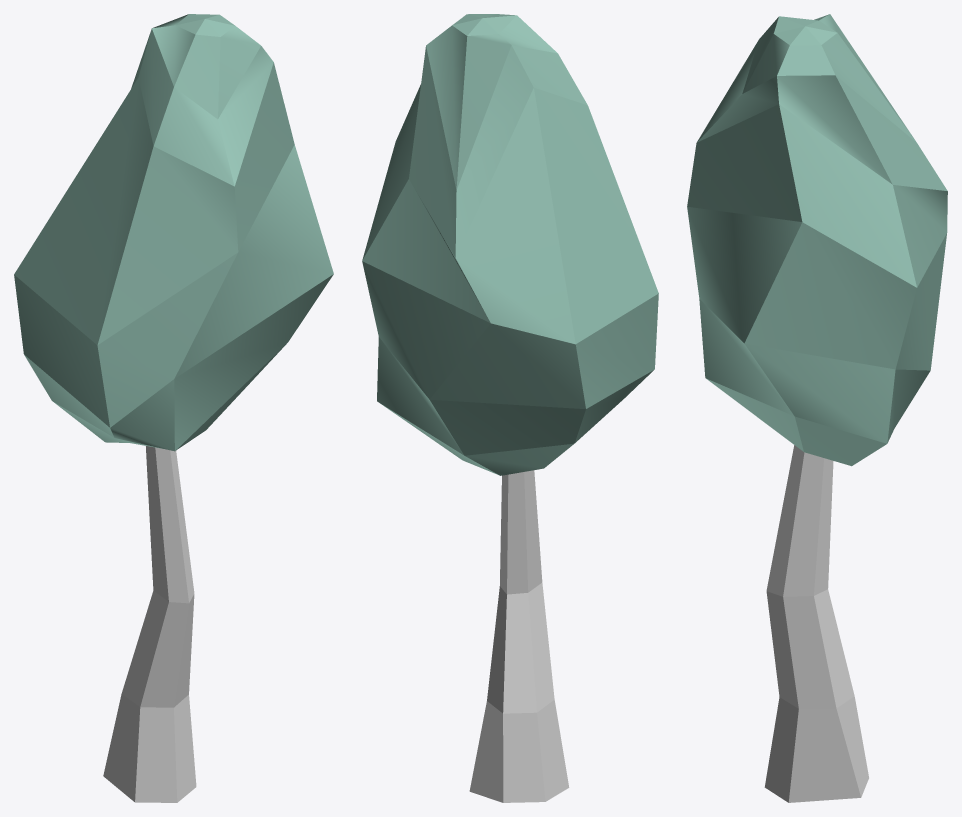
File: M_Tree_001.fbx
3 views of the same model, side by side, from view 1: azimuth 30°, elevation 25°; view 2: azimuth 150°, elevation 25°; view 3: azimuth 270°, elevation 25° (orthographic). The views are drawn at different scales.
Visible parts, largest first — view 1: M_Tree_001; view 2: M_Tree_001; view 3: M_Tree_001.
Part boxes in pixels (box(x1,y1,x2,y2)): M_Tree_001: box(14, 14, 333, 802); M_Tree_001: box(362, 14, 658, 802); M_Tree_001: box(687, 14, 947, 802).
Bounding box in the file's own units: 76.4 × 229 × 68.86.
